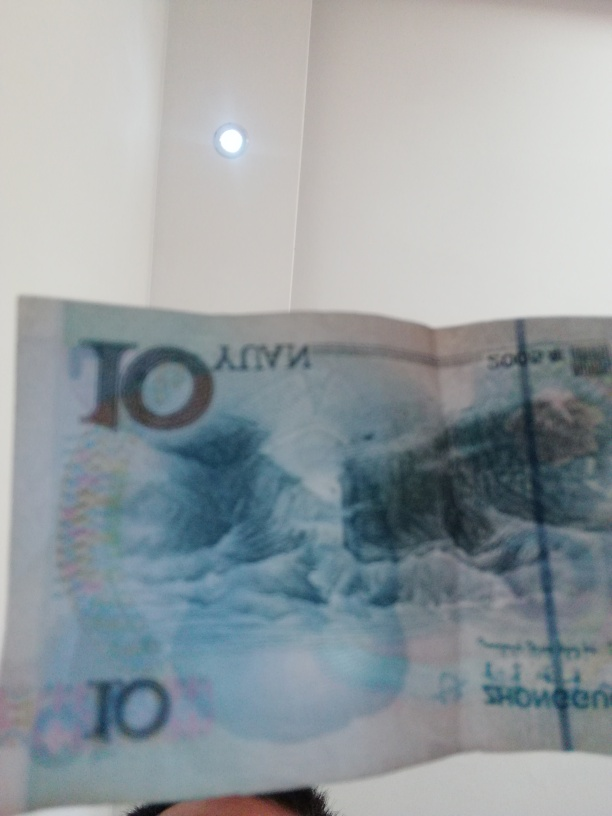rmb: (14, 291, 612, 785)
